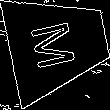M_E: (31, 17, 85, 72)
